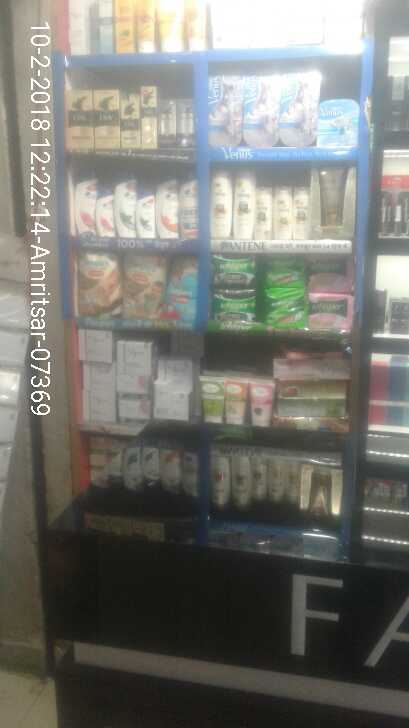venus: (244, 75, 283, 142), (283, 75, 317, 143), (210, 77, 244, 142), (317, 98, 359, 143)
